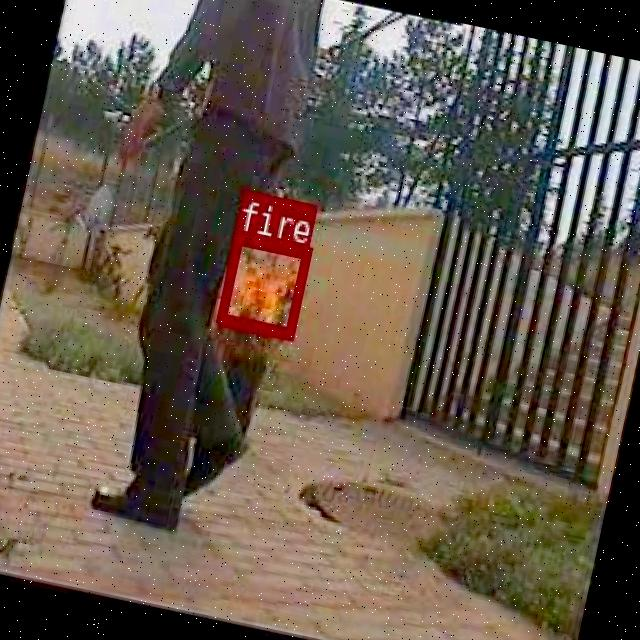fire: (214, 230, 309, 336)
